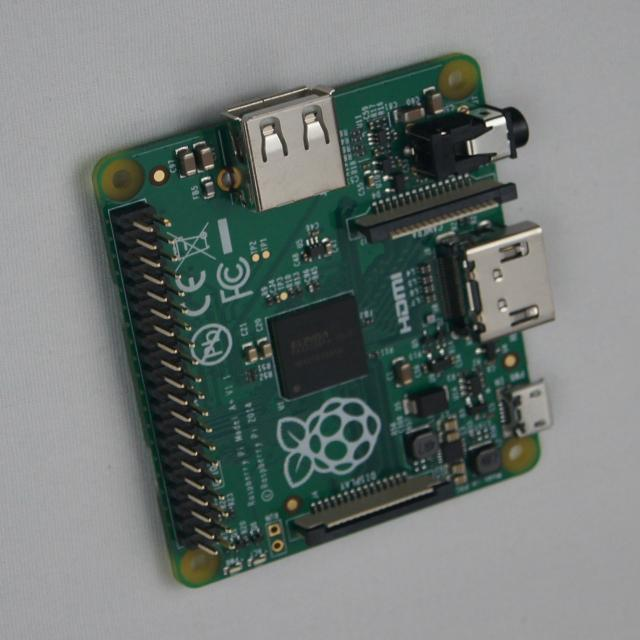Raspberry-Pi-1-A-: (92, 55, 555, 587)
